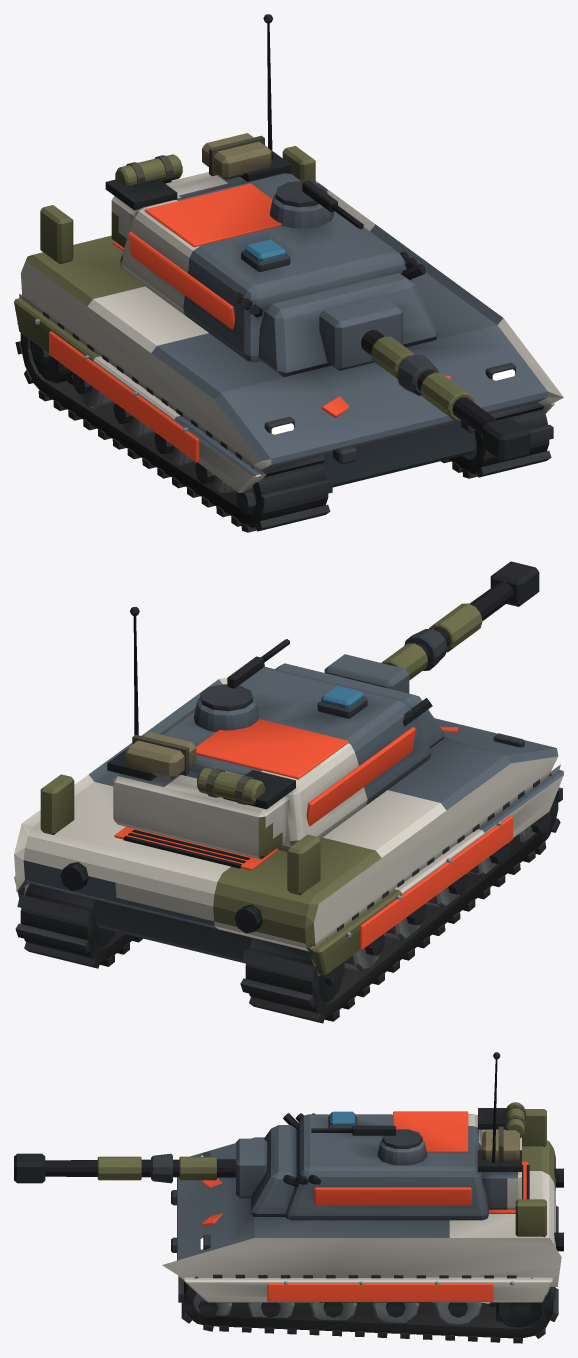
File: tank.glb
3 views of the same model, one above another, from view 1: azimuth 30°, elevation 25°; view 2: azimuth 150°, elevation 25°; view 3: azimuth 270°, elevation 25° (orthographic). The views are drawn at different scales.
Parts seen in each view (by area): view 1: geo_body, geo_turret, geo_track_right, geo_barrel, geo_track_left; view 2: geo_body, geo_turret, geo_track_right, geo_track_left, geo_barrel; view 3: geo_body, geo_turret, geo_track_left, geo_barrel.
Boxes of the visible parts, left/top/right/bottom form: geo_body: left=14, top=146, right=563, bottom=492; geo_turret: left=105, top=14, right=437, bottom=377; geo_track_right: left=15, top=307, right=332, bottom=532; geo_barrel: left=361, top=330, right=530, bottom=462; geo_track_left: left=441, top=402, right=553, bottom=478; geo_body: left=14, top=678, right=563, bottom=976; geo_turret: left=107, top=607, right=445, bottom=859; geo_track_right: left=240, top=773, right=562, bottom=1023; geo_track_left: left=15, top=883, right=142, bottom=968; geo_barrel: left=381, top=561, right=539, bottom=680; geo_body: left=162, top=1109, right=563, bottom=1302; geo_turret: left=236, top=1052, right=525, bottom=1220; geo_track_left: left=178, top=1274, right=558, bottom=1343; geo_barrel: left=14, top=1153, right=235, bottom=1183.
Bounding box in the file's own units: 4.35 × 4.61 × 8.75.
